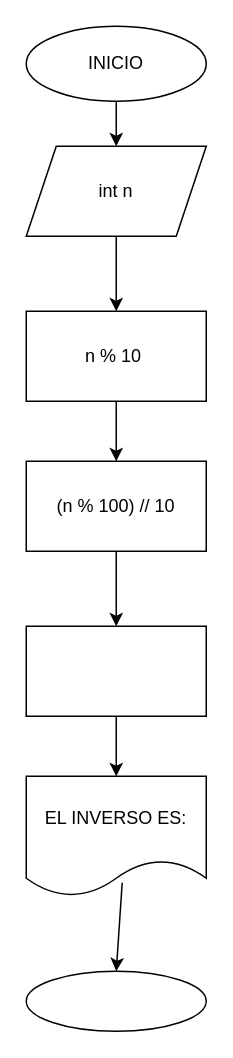
Some shapes in this 233 by 1058 pixel diagram are drawn without their labels. Each missing label, with the centre of its shape:
(n // 1000)//100: the point at 115,670
FIN: the point at 115,1000
